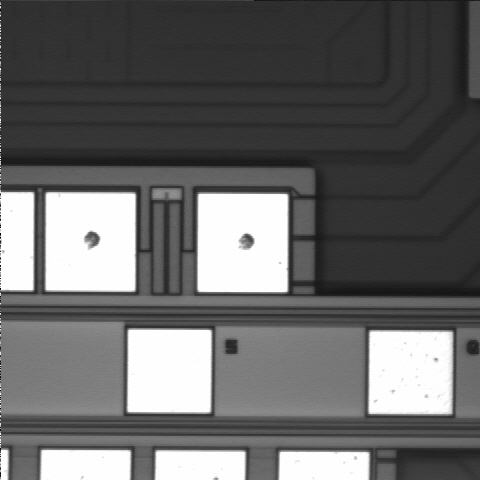pad: (46, 192, 135, 292), (198, 194, 288, 292), (128, 330, 211, 413), (369, 331, 452, 414)
